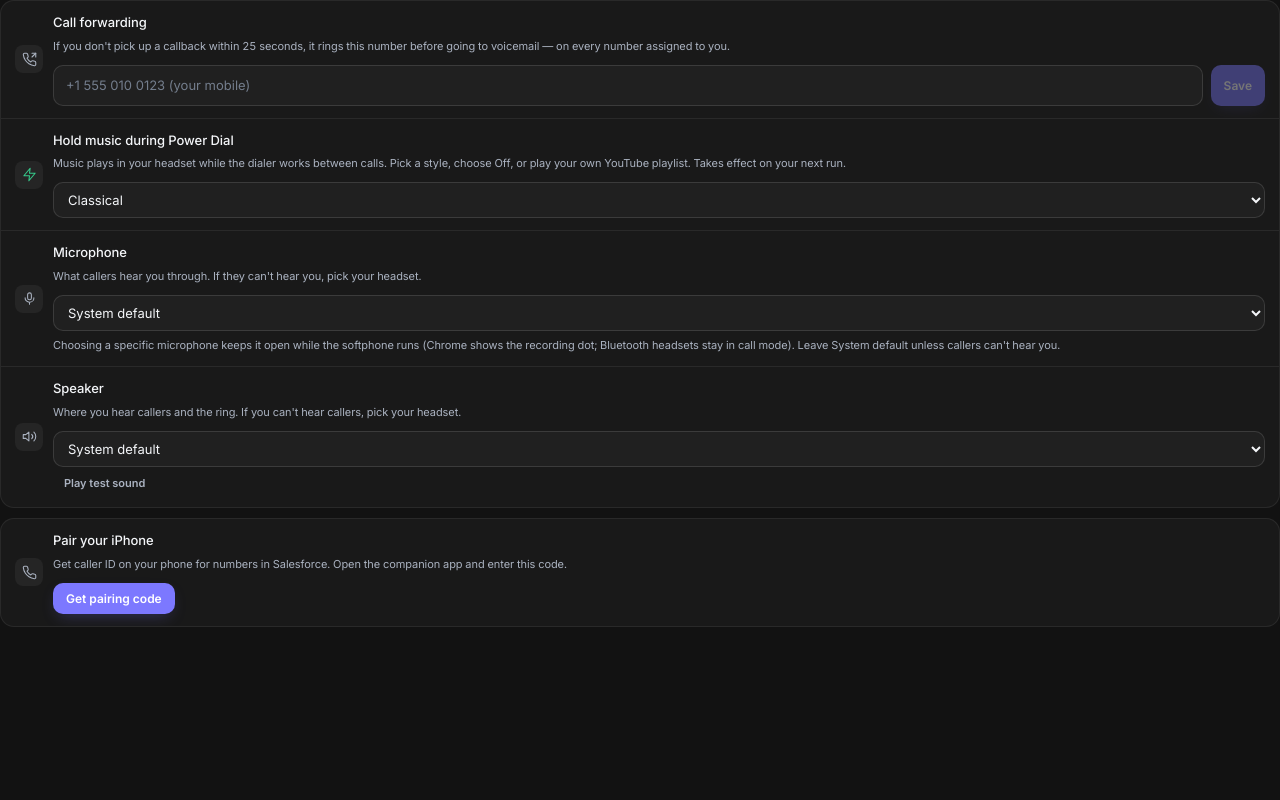
Test: SettingsPanel picker — PATCH shapes, toasts, YouTube link errors › a 400 from the API shows its own error sentence inline
The width and height of the screenshot is (1280, 800).
Select "YouTube" in the dropdown named "Hold music" at (659, 200), box [53,182,1265,218]
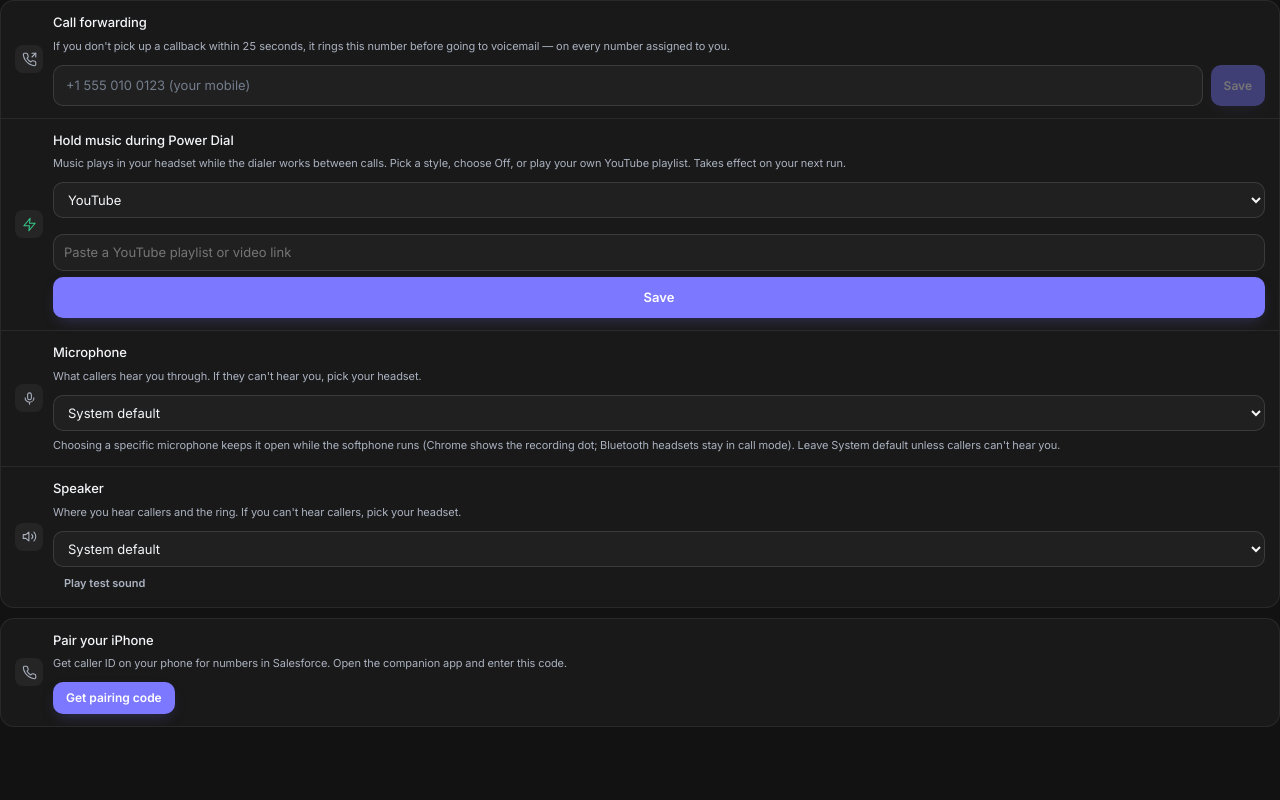
Type "https://youtu.be/dQw4w9WgXcQ" into the field with placeholder "Paste a YouTube playlist or video link" at (659, 253), box [53,234,1265,271]
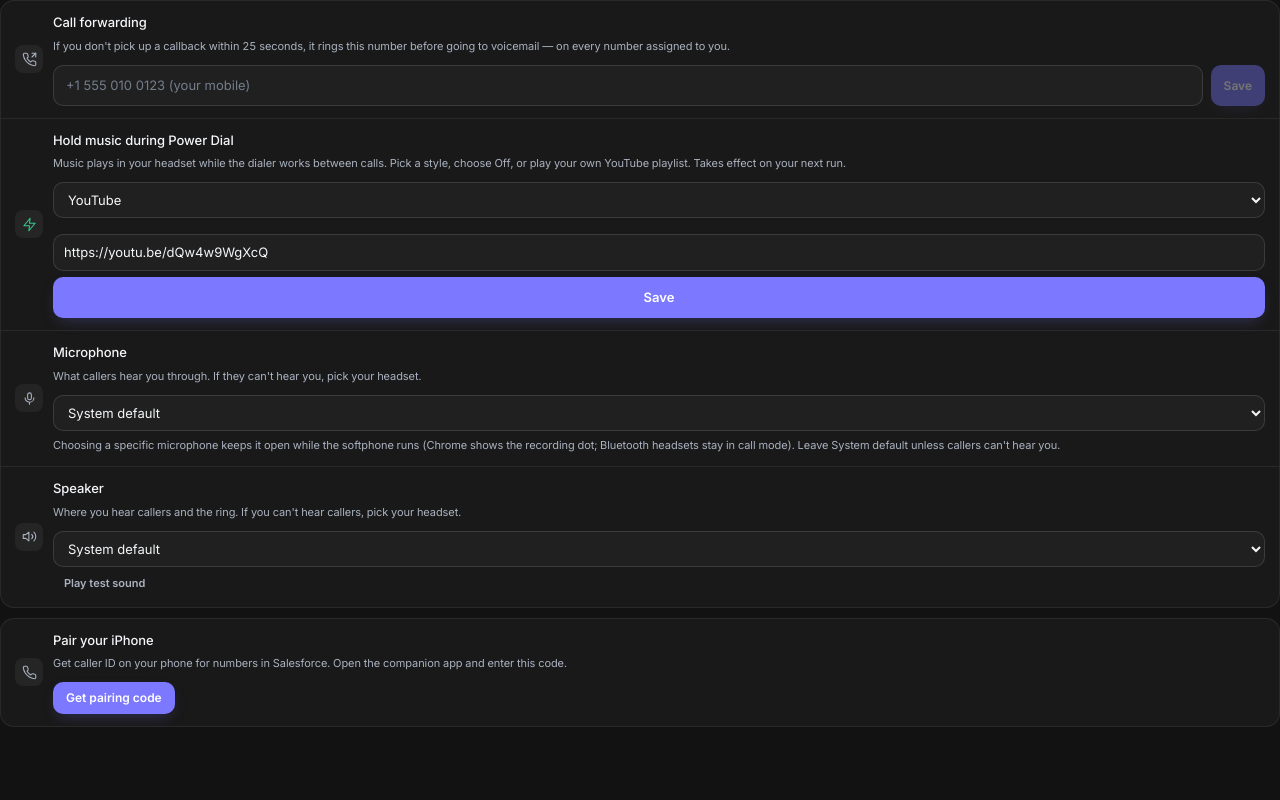
Click the button "Save" below "Hold music during Power Dial" at (659, 298), box [53,277,1265,318]
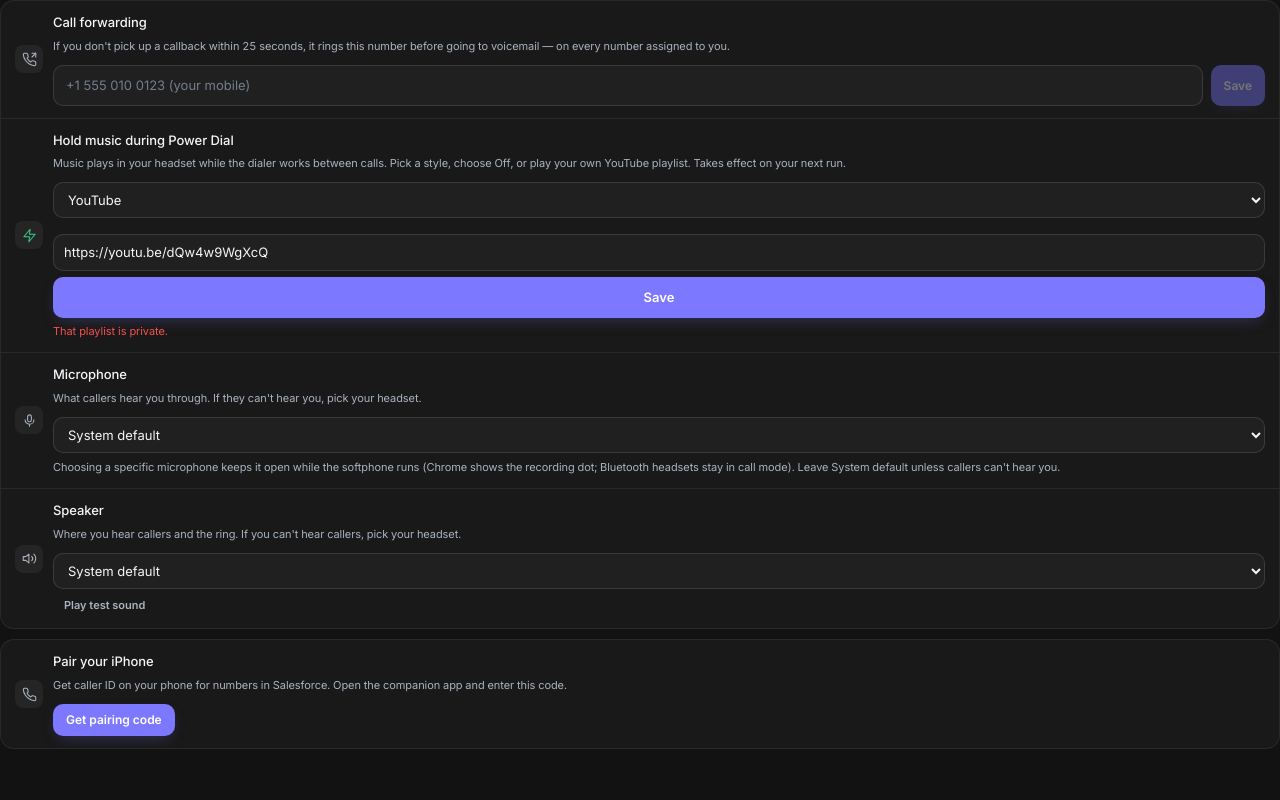
Expected: the text "That playlist is private." is shown, [53,324,168,338]
